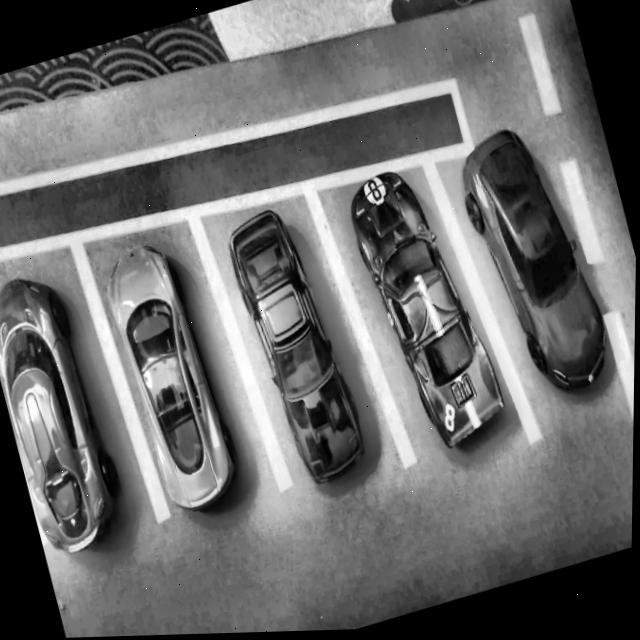car: (338, 156, 515, 465), (446, 118, 622, 414), (219, 200, 377, 498), (93, 234, 251, 525), (0, 263, 139, 564)
